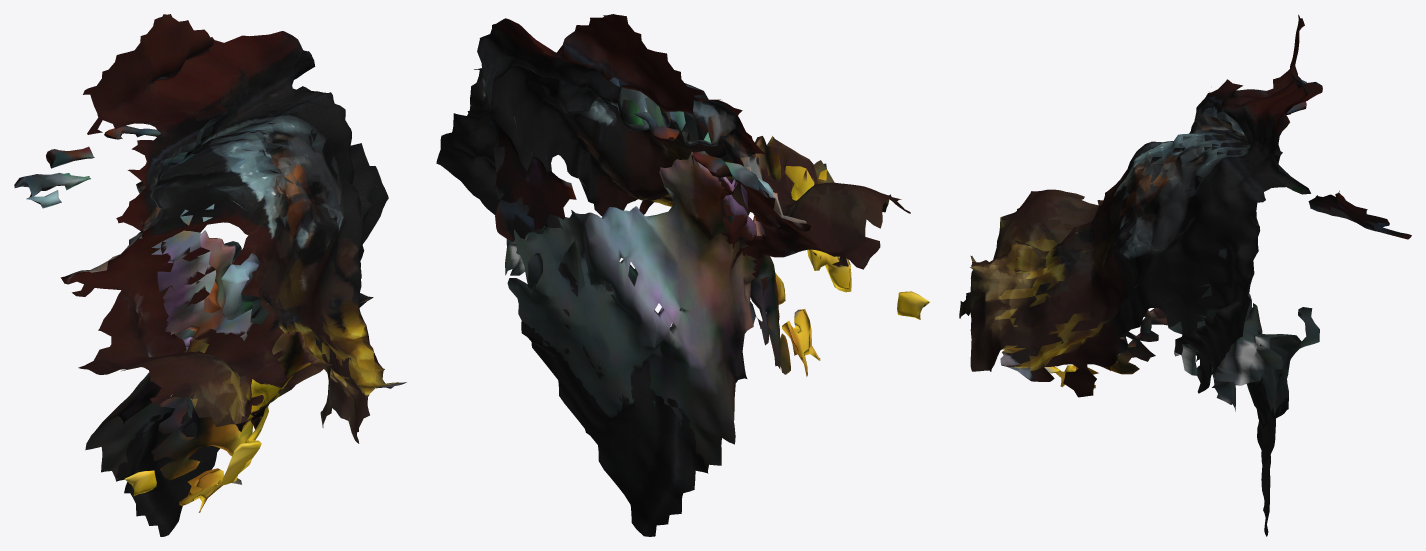
The model's file is scan_20260927_193629_89041.glb.
3 renders of one model, left to right at view 1: azimuth 30°, elevation 25°; view 2: azimuth 150°, elevation 25°; view 3: azimuth 270°, elevation 25°, orthographic. The views are drawn at different scales.
Parts seen in each view (by area): view 1: MobileScan3D_Textured; view 2: MobileScan3D_Textured; view 3: MobileScan3D_Textured.
Boxes of the visible parts, box(x1,y1,x2,y2) form: MobileScan3D_Textured: box(14, 14, 406, 536); MobileScan3D_Textured: box(436, 14, 930, 536); MobileScan3D_Textured: box(959, 14, 1411, 536).
Bounding box in the file's own units: 0.1169 × 0.1539 × 0.1204.
Materials: 1 (1 with a texture image).
